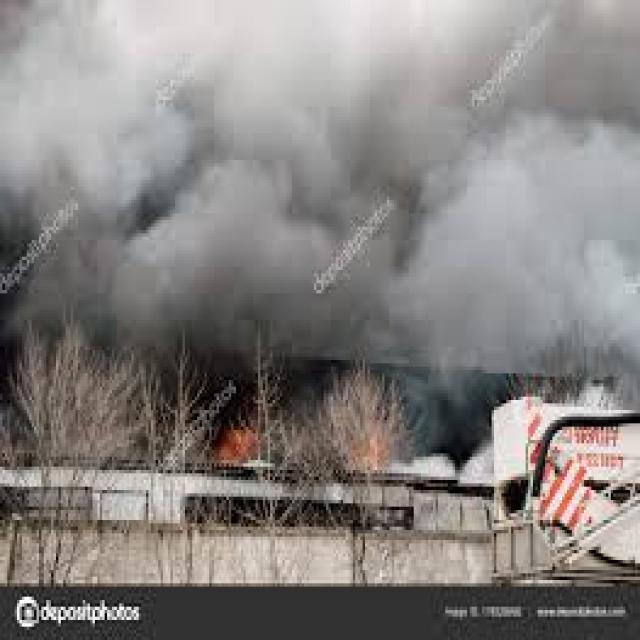smoke: (15, 9, 619, 354)
